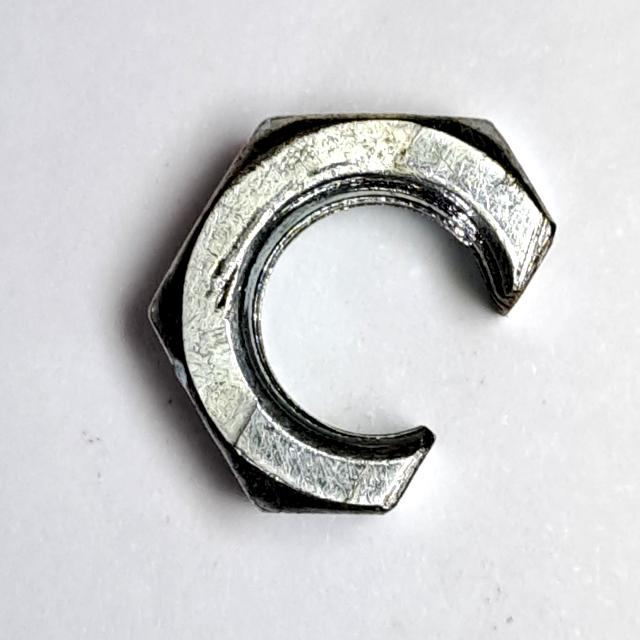Fracture: (132, 100, 567, 534)
